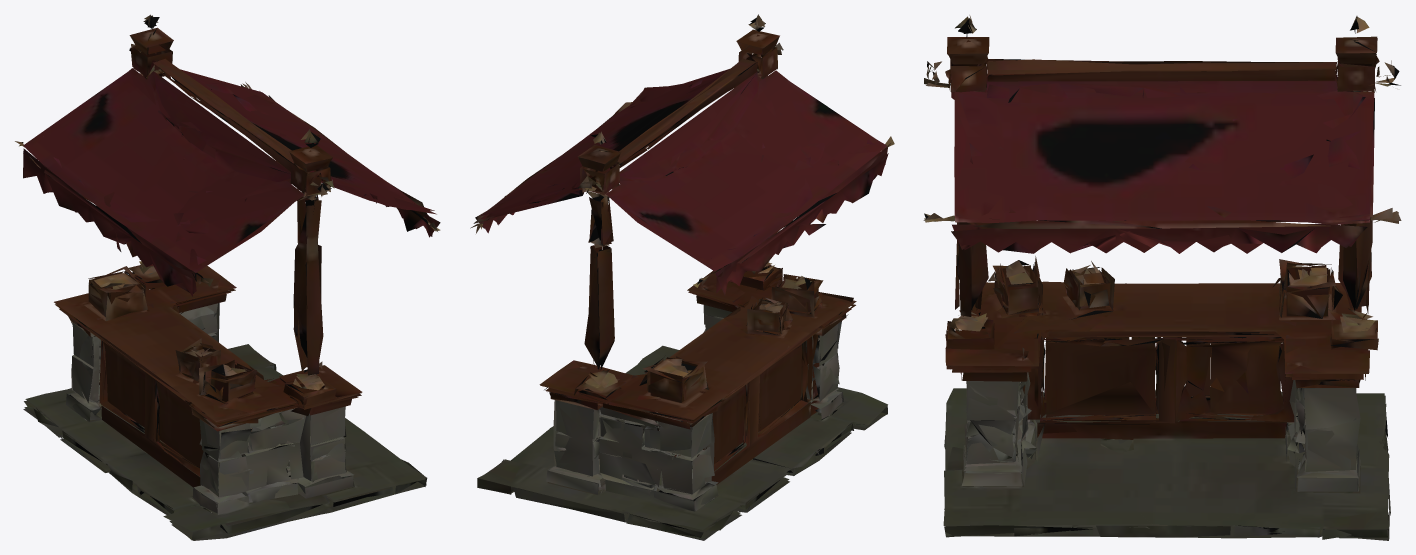
File: town_stall.glb
The picture shows the model from 3 angles, left to right: view 1: azimuth 30°, elevation 25°; view 2: azimuth 150°, elevation 25°; view 3: azimuth 270°, elevation 25°; orthographic projection. The views are drawn at different scales.
Parts seen in each view (by area): view 1: town_stall; view 2: town_stall; view 3: town_stall.
Boxes of the visible parts, x1=… form: town_stall: x1=15, y1=14, x2=440, y2=540; town_stall: x1=470, y1=14, x2=894, y2=540; town_stall: x1=923, y1=15, x2=1401, y2=540.
Size of the model in its own units: 2.04 by 2.92 by 2.72.
1 material, 1 textured.
